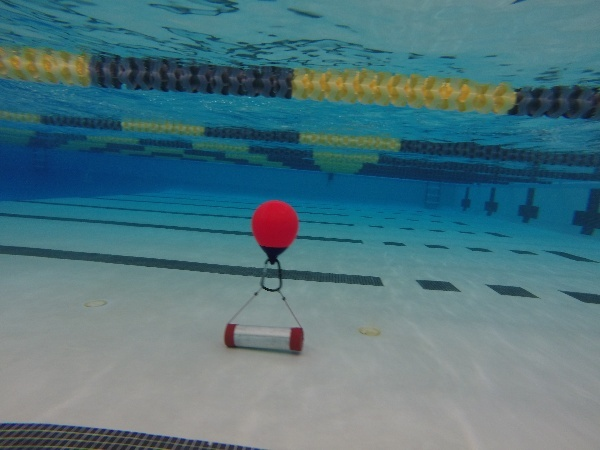buoy_red: (248, 196, 303, 270)
